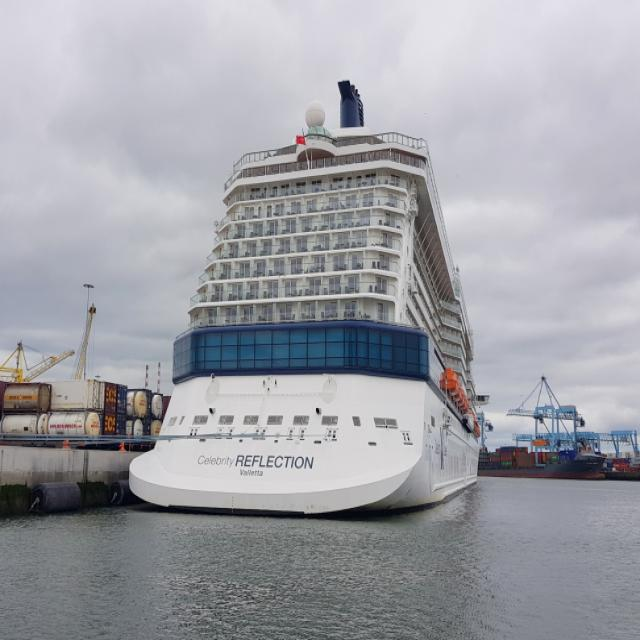cruises: (125, 75, 492, 530)
